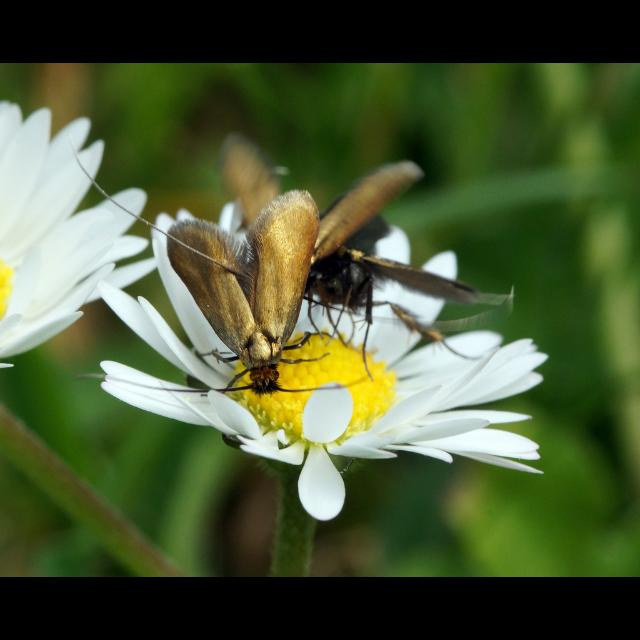Flower: (103, 200, 551, 528), (6, 116, 146, 380)
